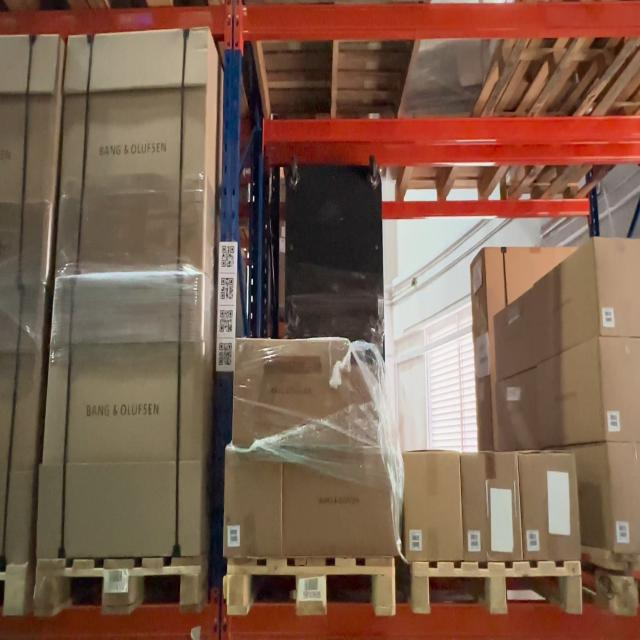box: (36, 271, 205, 560), (55, 28, 210, 275), (231, 337, 351, 449), (281, 447, 398, 556), (517, 452, 581, 562), (460, 453, 523, 563), (403, 451, 464, 564), (223, 448, 284, 558)
